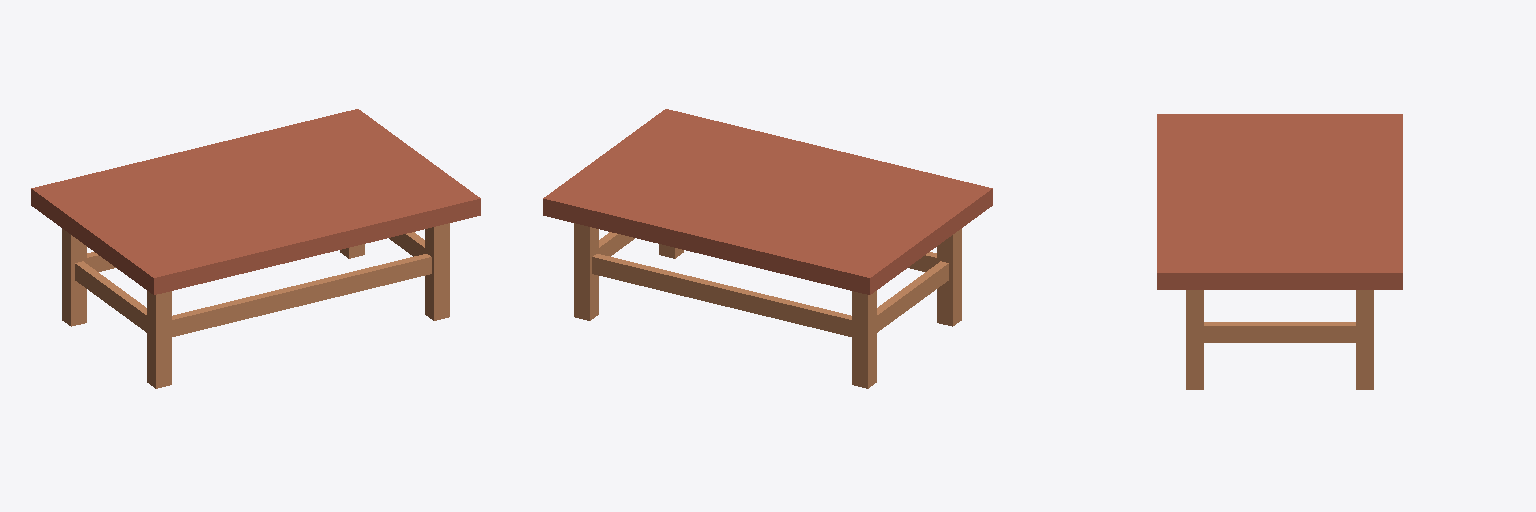
Rendered from CoffeeTable.obj.
The picture shows the model from 3 angles: view 1: azimuth 30°, elevation 25°; view 2: azimuth 150°, elevation 25°; view 3: azimuth 270°, elevation 25°; orthographic projection.
Parts seen in each view (by area): view 1: mergedBlocks; view 2: mergedBlocks; view 3: mergedBlocks.
Boxes of the visible parts, x1=… form: mergedBlocks: x1=31, y1=109, x2=480, y2=388; mergedBlocks: x1=543, y1=109, x2=992, y2=388; mergedBlocks: x1=1157, y1=114, x2=1402, y2=389.
Bounding box in the file's own units: 1 × 0.3655 × 0.65.